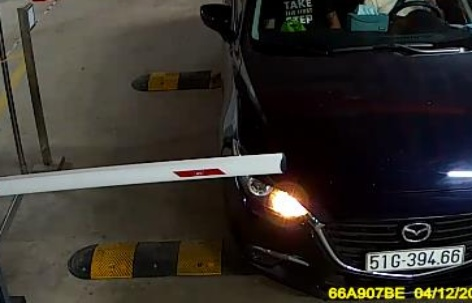plate: (361, 246, 467, 274)
